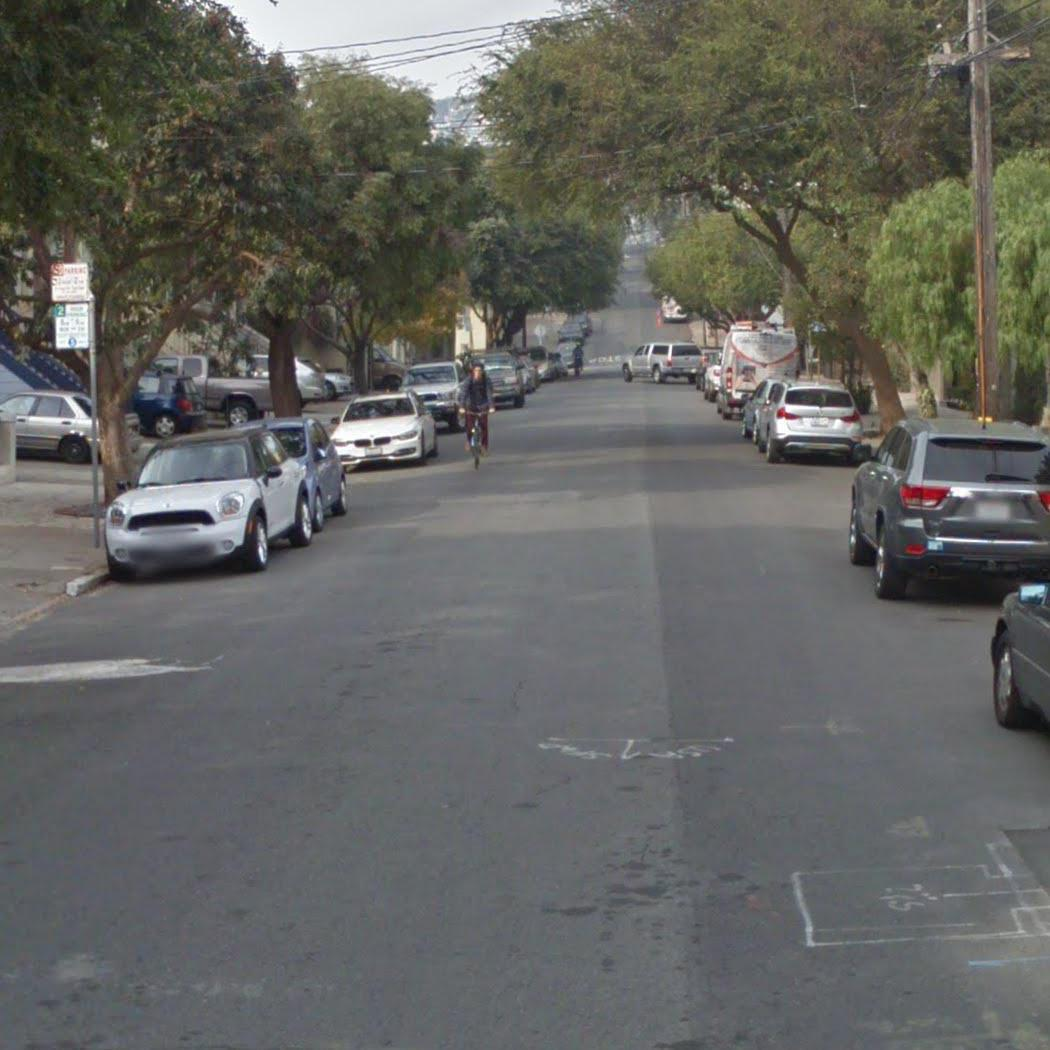2 Hour Parking: (52, 305, 94, 351)
No Parking: (48, 257, 91, 305)
